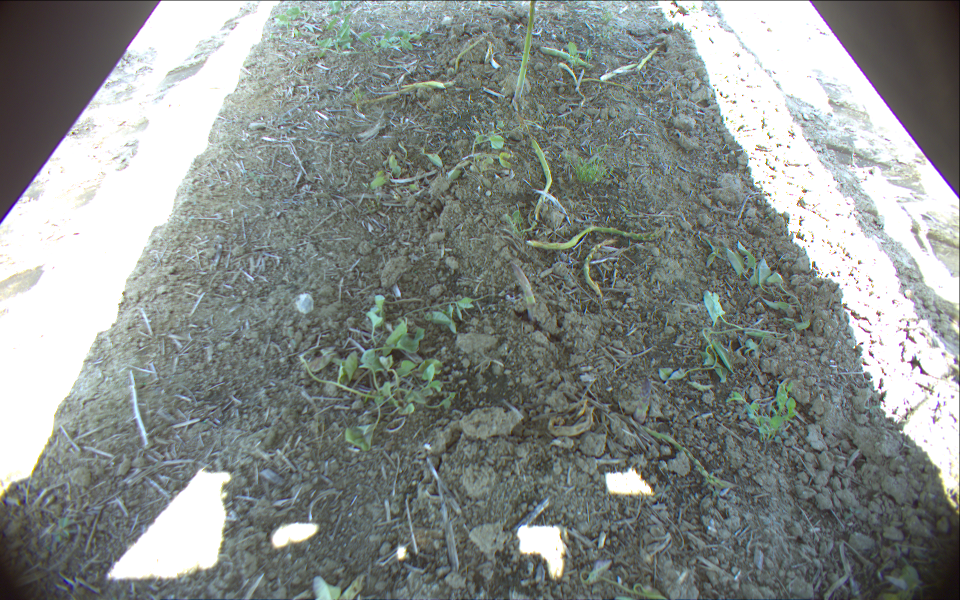aspa: (526, 223, 673, 251), (523, 137, 554, 230), (358, 79, 459, 107), (513, 1, 536, 102), (583, 241, 617, 297), (450, 35, 491, 74), (512, 263, 536, 320), (582, 78, 673, 93), (541, 45, 592, 69), (634, 377, 651, 429), (632, 47, 659, 76), (404, 78, 446, 92), (600, 65, 633, 81)
